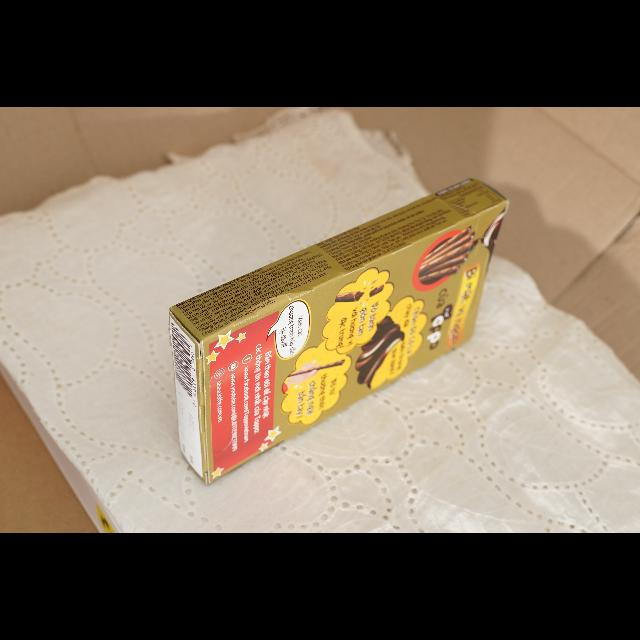banh_toppo_socola: (170, 179, 507, 483)
